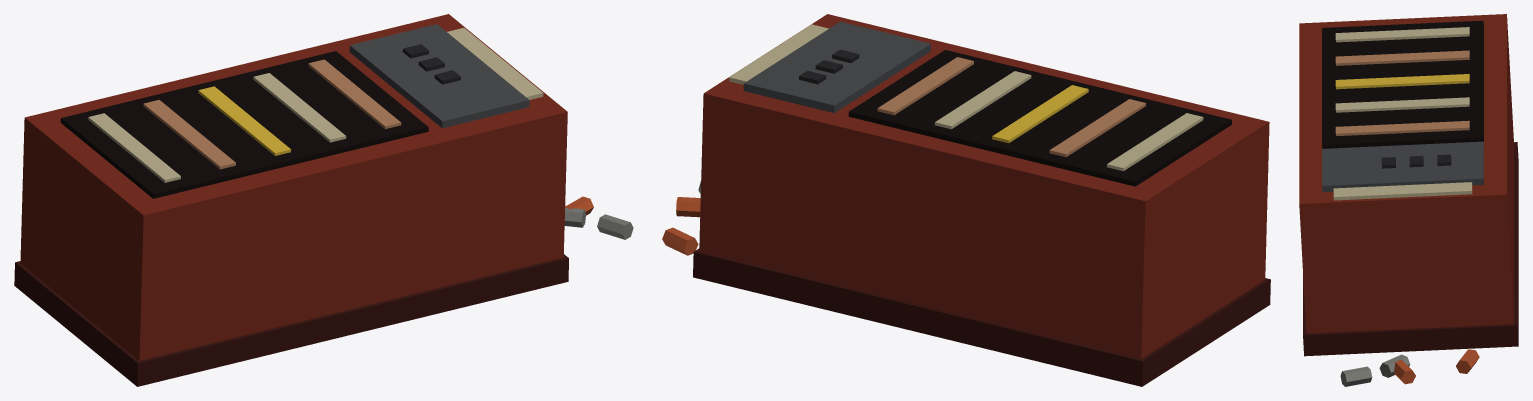
File: hollis_vending_tipped.glb
3 renders of one model, left to right at view 1: azimuth 30°, elevation 25°; view 2: azimuth 150°, elevation 25°; view 3: azimuth 270°, elevation 25°, orthographic. The views are drawn at different scales.
Parts seen in each view (by area): view 1: hollis_vending_tipped; view 2: hollis_vending_tipped; view 3: hollis_vending_tipped.
Boxes of the visible parts, left/top/right/bottom form: hollis_vending_tipped: left=14, top=14, right=633, bottom=386; hollis_vending_tipped: left=662, top=14, right=1270, bottom=386; hollis_vending_tipped: left=1299, top=14, right=1518, bottom=386.
Size of the model in its own units: 2.27 by 0.7978 by 0.9498.
